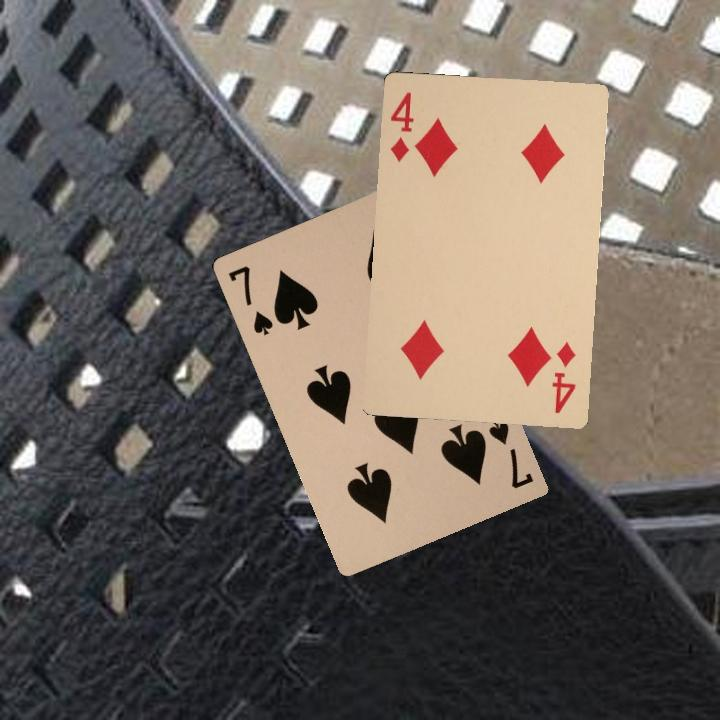4d: (386, 88, 417, 164), (548, 338, 578, 416)
7s: (224, 261, 276, 338), (484, 415, 536, 492)
